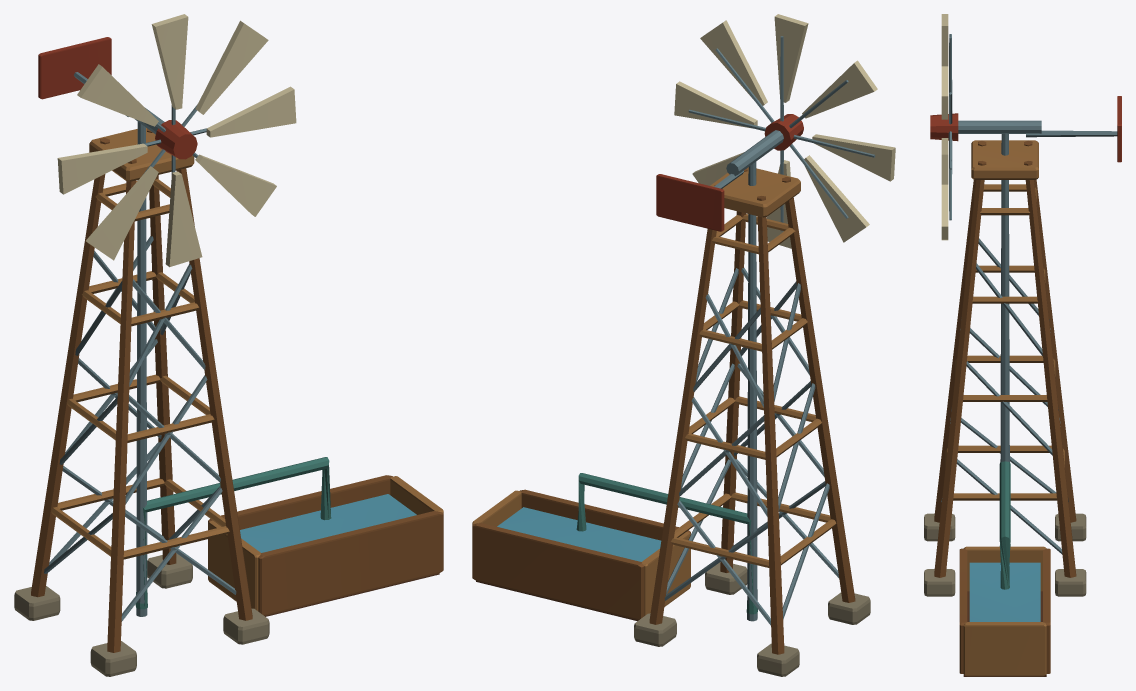
Rendered from Building_Pastoral_WindPump_001.glb.
The picture shows the model from 3 angles, left to right: view 1: azimuth 30°, elevation 25°; view 2: azimuth 150°, elevation 25°; view 3: azimuth 270°, elevation 25°; orthographic projection. The views are drawn at different scales.
Parts seen in each view (by area): view 1: PA_WindPump_Body, PA_WindPump_Rotor; view 2: PA_WindPump_Body, PA_WindPump_Rotor; view 3: PA_WindPump_Body, PA_WindPump_Rotor.
Part boxes in pixels (x1=…): PA_WindPump_Body: x1=14, y1=37, x2=443, y2=676; PA_WindPump_Rotor: x1=57, y1=14, x2=296, y2=267; PA_WindPump_Body: x1=472, y1=130, x2=870, y2=676; PA_WindPump_Rotor: x1=674, y1=14, x2=895, y2=248; PA_WindPump_Body: x1=924, y1=96, x2=1121, y2=676; PA_WindPump_Rotor: x1=930, y1=14, x2=958, y2=240.
Bounding box in the file's own units: 3.76 × 5.74 × 1.9.
